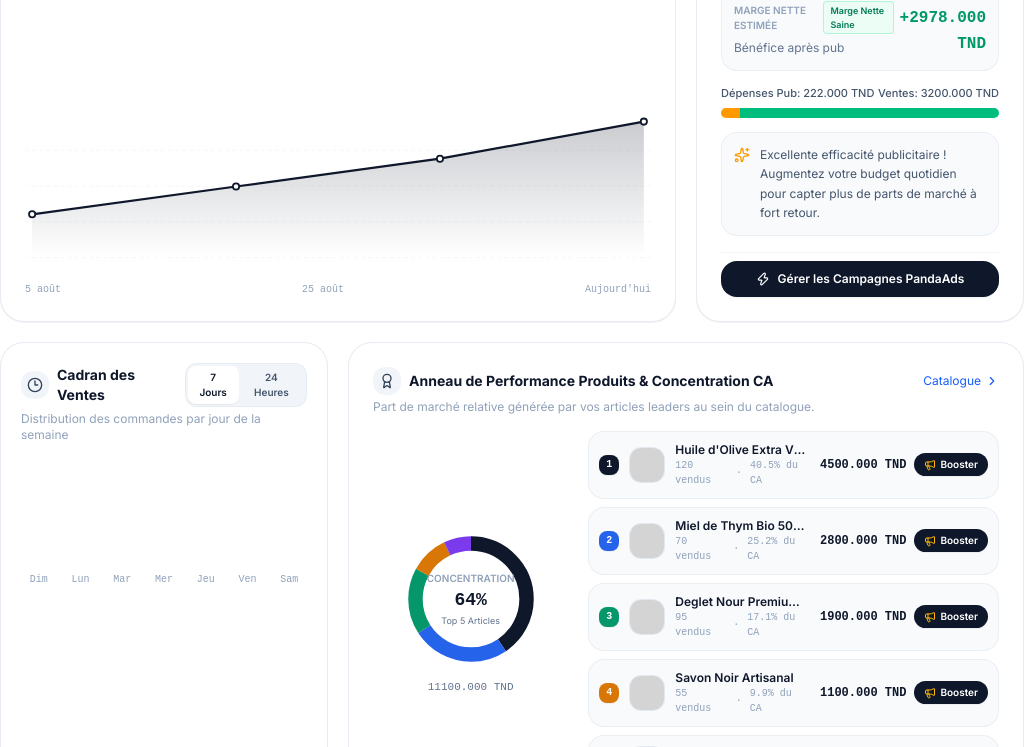
Scenario: AnalyticsBentoCockpit Component › Feature 4: Peak Sales Heat Clock & Top Product Performance Ring › switches heat clock to 24-hour mode and renders circular clock face with peaks
(page scrolled)
Click the button "24 Heures" at (271, 384), box [239,366,304,404]
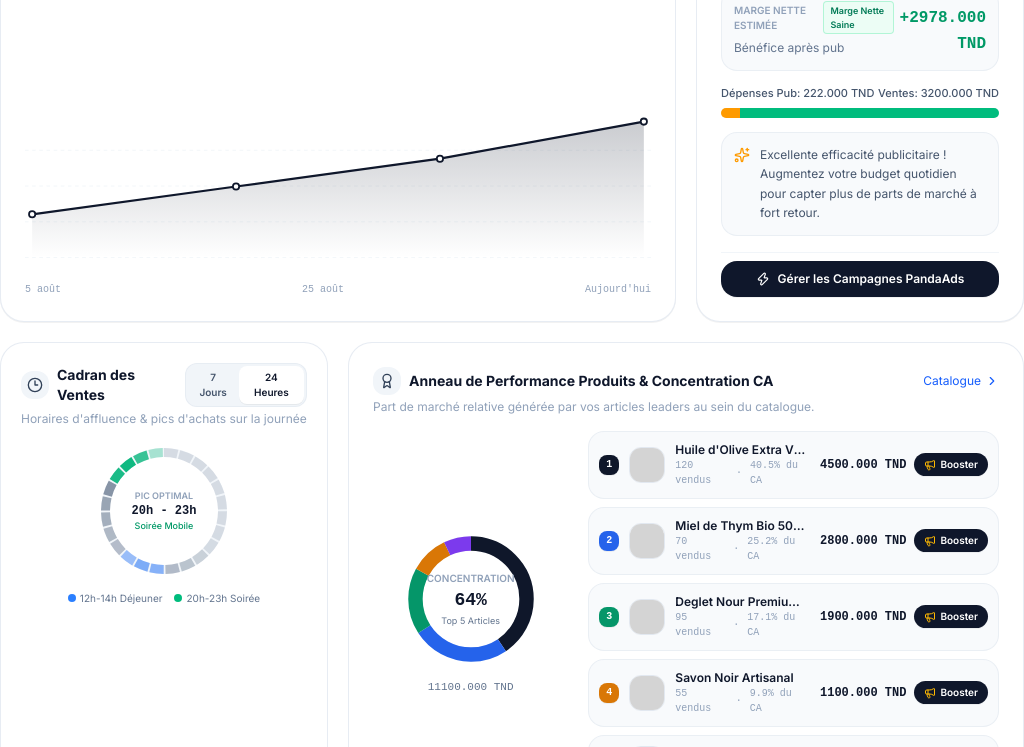
Result: the text "Horaires d'affluence & pics d'achats sur la journée" is shown at [21,410,307,426]
Result: the text "Pic Optimal" is shown at [135,489,193,502]
Result: the text "20h - 23h" is shown at [132,502,196,518]
